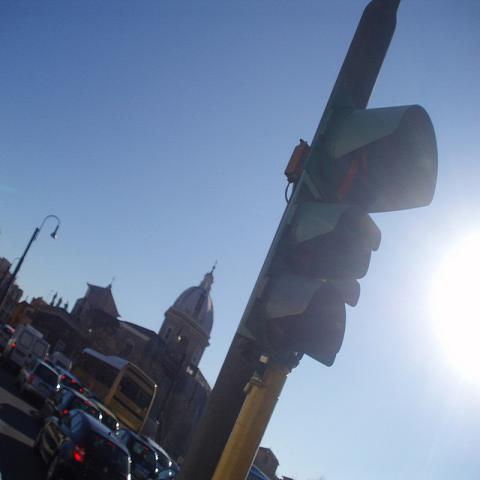bus: (72, 346, 158, 436)
car: (36, 412, 128, 472), (110, 427, 160, 479), (41, 387, 103, 424), (1, 325, 50, 370), (15, 358, 59, 403), (140, 434, 181, 474), (82, 398, 121, 435), (53, 365, 83, 395), (46, 352, 72, 372), (0, 324, 14, 348)
